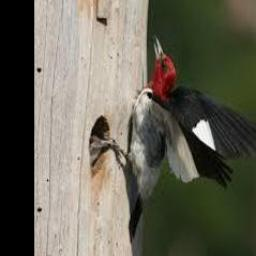Woodpecker: (91, 36, 256, 241)
